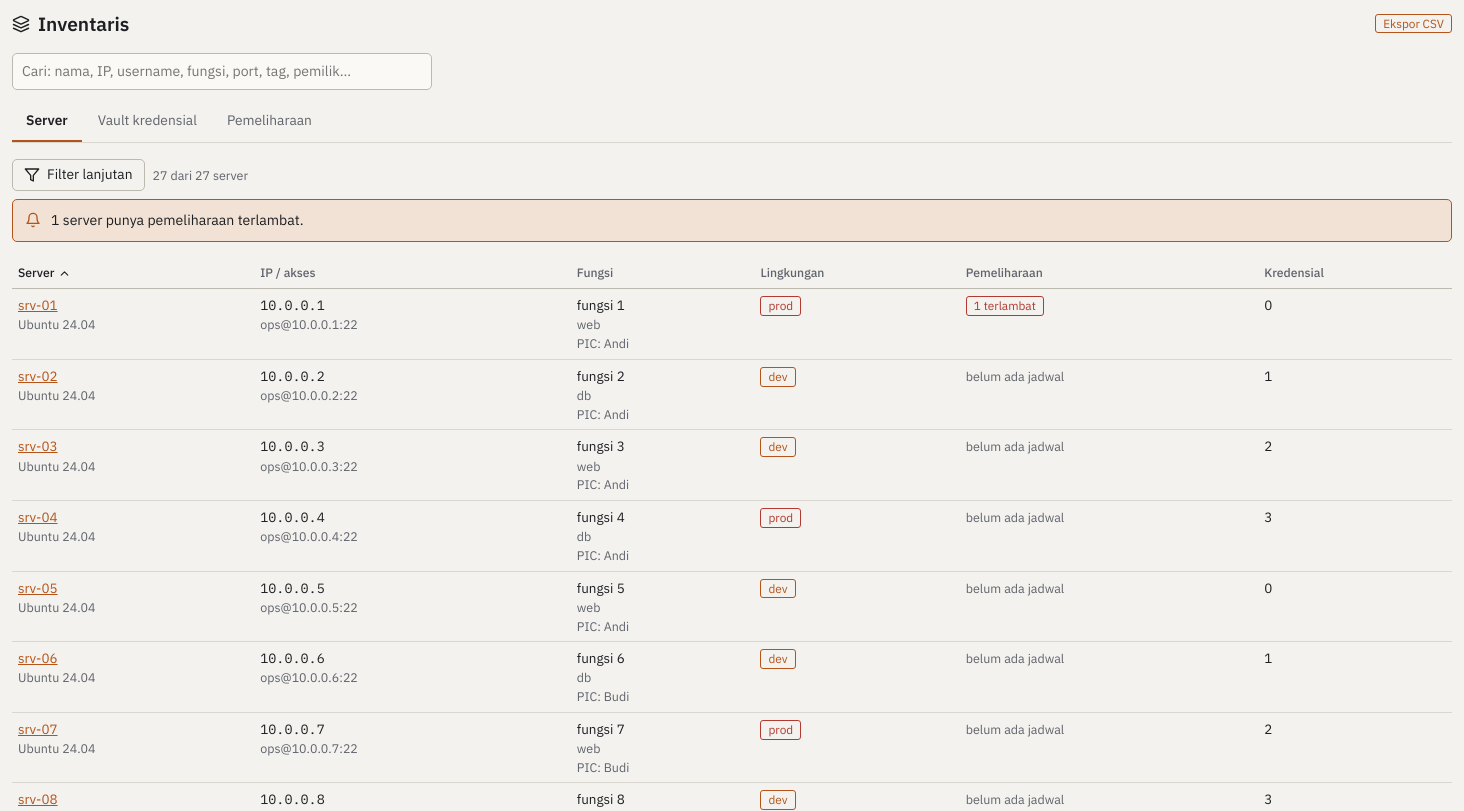
it: InventoryPage: tabel server › pencarian teks dikirim ke server (mencakup port dan layanan), lalu tabel menampilkan hasilnya
Type "cari" into the search field labelled "Cari".
click(222, 72); type("cari")  # box [12, 53, 432, 90]
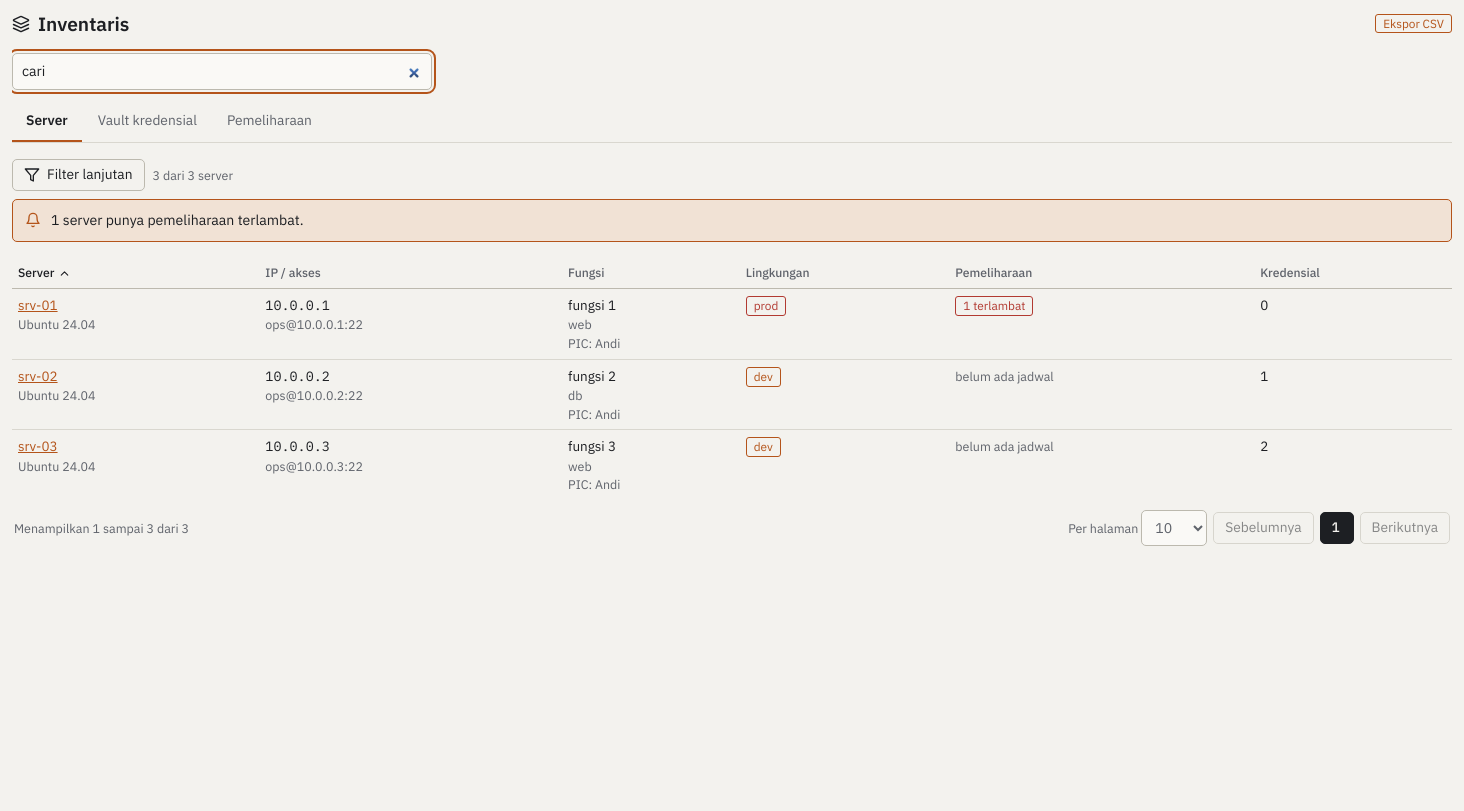
Now the text "Menampilkan 1 sampai 3 dari 3" is shown, box [14, 519, 189, 537]
